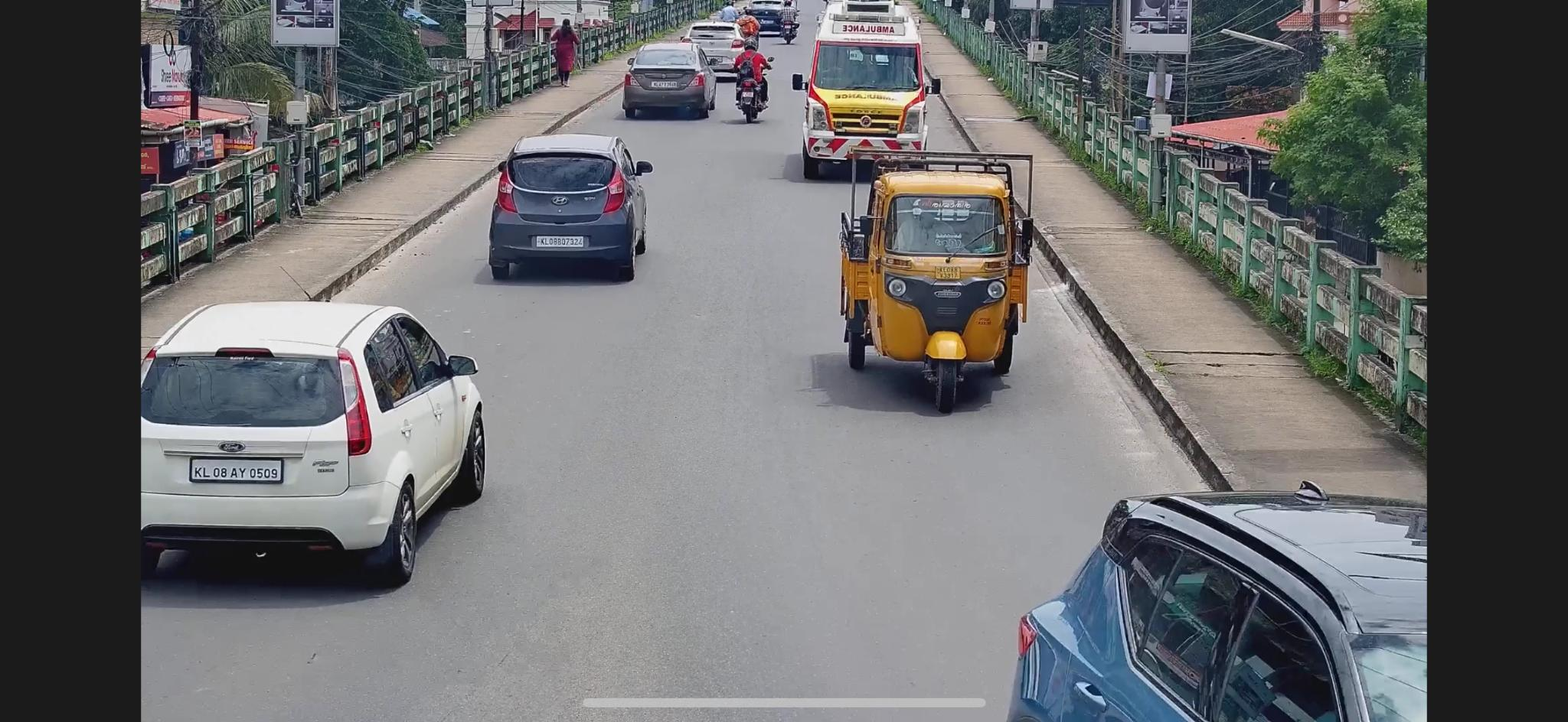ambulance: (802, 1, 929, 180)
